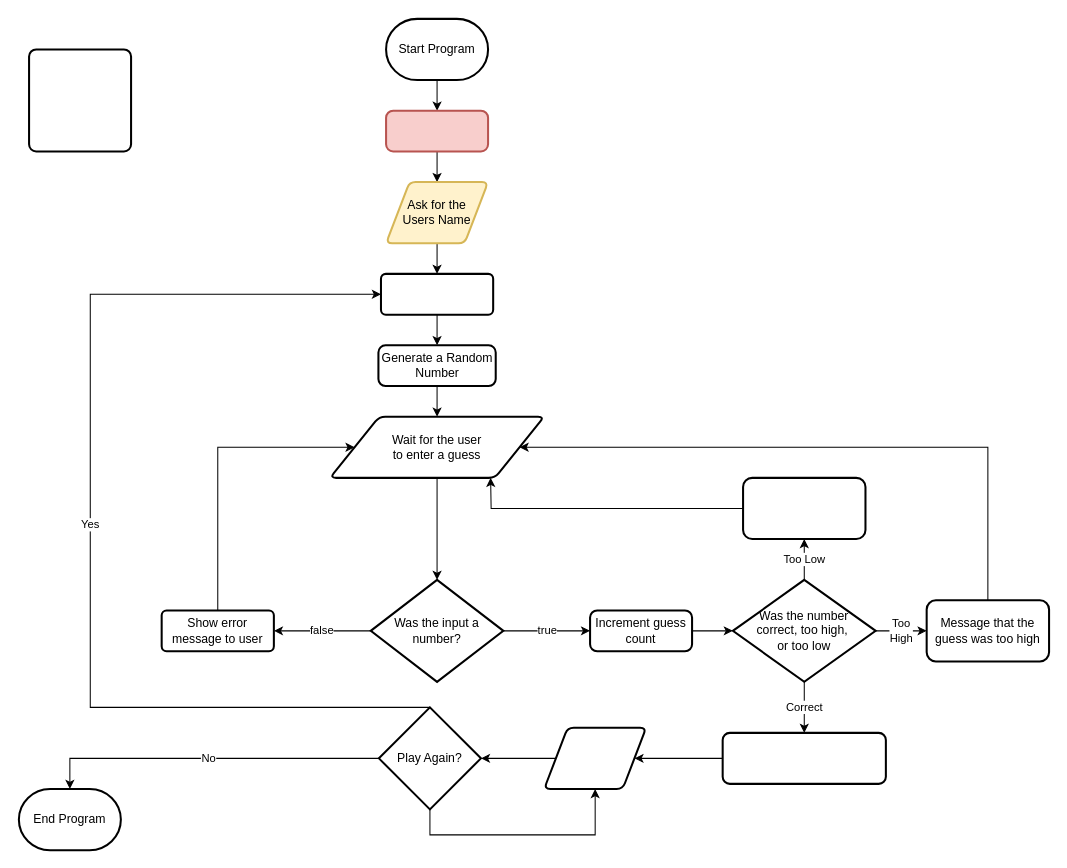
Some shapes in this 1067 by 868 pixel diagram are drawn without their labels. The shapes that lost their labels are listed below. From the top down, each one's box as (x1, y1, x2, y2) in pixels, then its label:
(28, 48, 132, 152): Clint MacDonald Jan 10, 2025 Work Flow Diagram 1
(385, 109, 489, 152): Welcome the User
(379, 272, 494, 315): Start The Game
(742, 476, 866, 540): Message that the guess was too low
(543, 726, 647, 789): Ask if they want to play again?
(721, 731, 886, 784): Message that the guess was correct and how many guess it took
